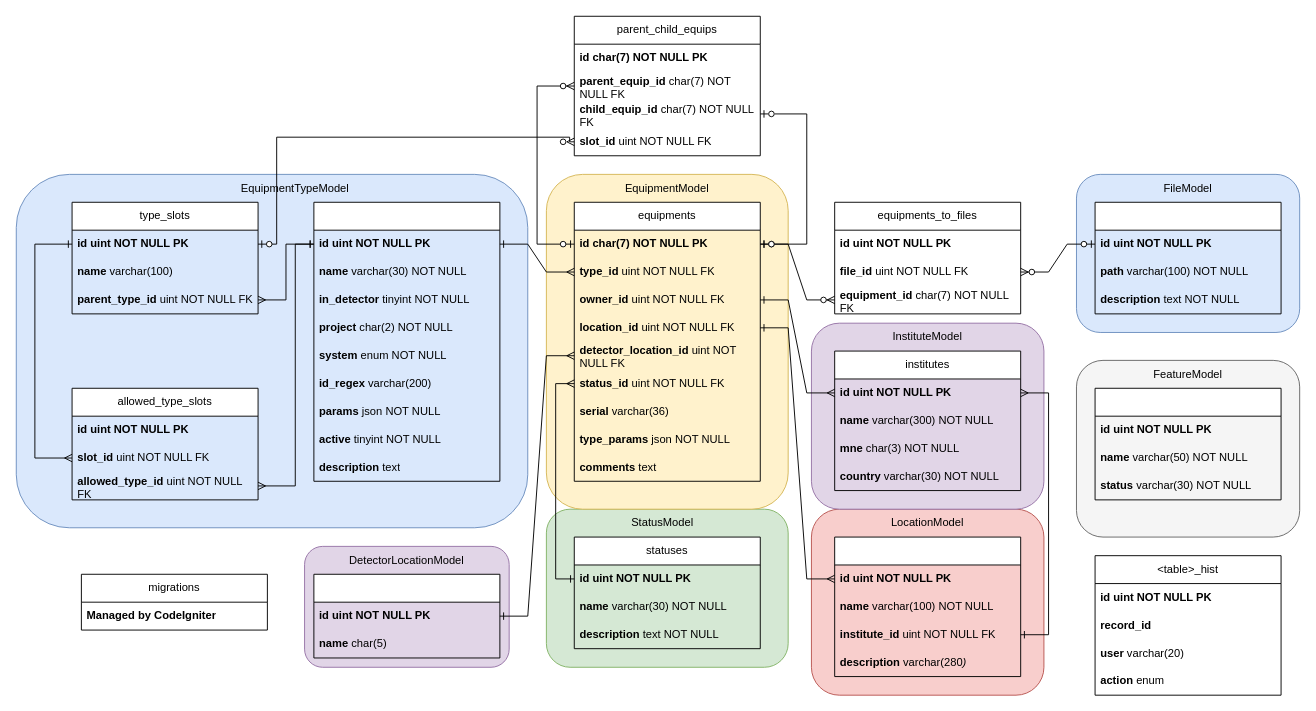
Some shapes in this 1316 by 711 pixel diagram are drawn without their labels. The shapes that lost their labels are listed below. From the top down, each one's box as (x1, y1, x2, y2) in pixels, then its label:
(1094, 201, 1281, 314): files
(313, 201, 500, 481): equipment_types
(1094, 387, 1281, 500): features
(313, 573, 500, 658): detector_locations
(834, 536, 1021, 677): locations
